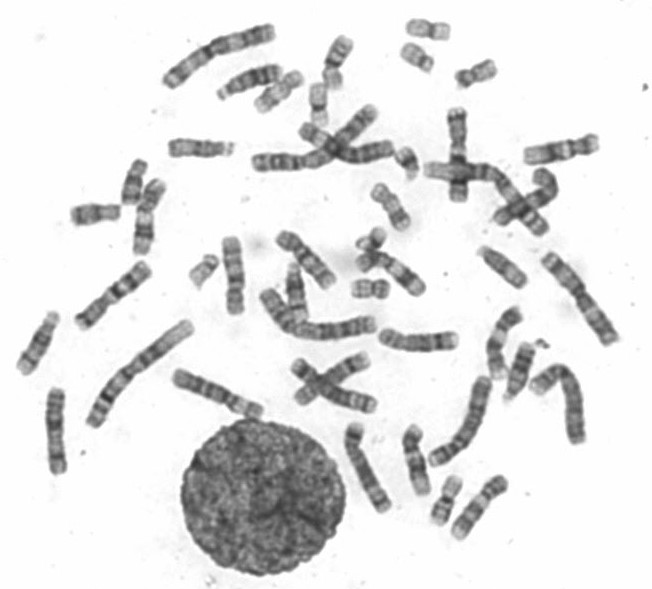chromosomes: (82, 311, 202, 438), (420, 153, 554, 244), (247, 98, 392, 178), (157, 14, 282, 95), (538, 246, 626, 354), (255, 281, 383, 343), (72, 254, 158, 337), (427, 370, 495, 470), (167, 360, 270, 423), (529, 362, 593, 455), (287, 356, 385, 416), (339, 418, 396, 518), (288, 346, 376, 409), (297, 116, 399, 167), (489, 166, 567, 232), (448, 470, 513, 546), (274, 220, 340, 294), (11, 301, 66, 383), (350, 250, 433, 300), (483, 301, 531, 384), (442, 101, 478, 208), (39, 381, 76, 481), (498, 336, 545, 411), (131, 173, 171, 259), (212, 59, 285, 105), (520, 130, 604, 169), (399, 417, 436, 502), (217, 231, 252, 317), (474, 241, 533, 292), (250, 67, 308, 117), (377, 325, 468, 356), (368, 179, 417, 235), (317, 29, 358, 95), (427, 469, 470, 529), (164, 133, 240, 163), (282, 256, 314, 327), (117, 153, 154, 211), (451, 54, 505, 93), (65, 199, 128, 230), (401, 13, 456, 47), (181, 249, 223, 291), (349, 222, 393, 259), (395, 38, 437, 76), (345, 275, 393, 308), (305, 77, 334, 131), (391, 139, 425, 182)
